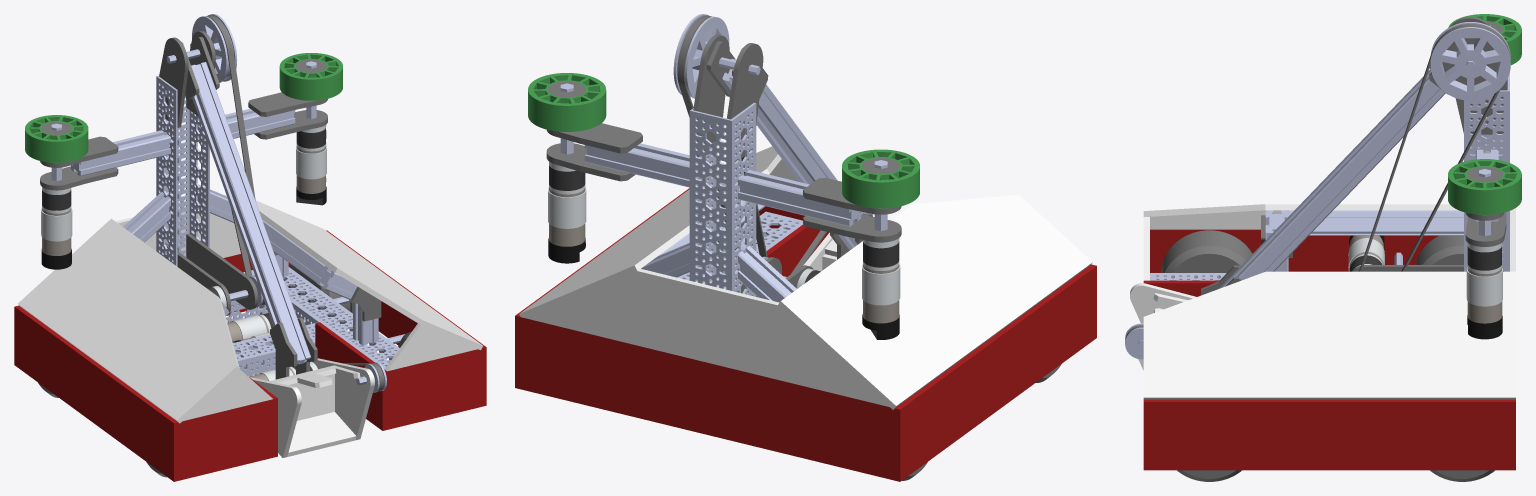
File: Bulldogs_AssemblyFBX_FIXED.fbx
3 renders of one model, left to right at view 1: azimuth 30°, elevation 25°; view 2: azimuth 150°, elevation 25°; view 3: azimuth 270°, elevation 25°, orthographic. The views are drawn at different scales.
Parts seen in each view (by area): view 1: Body70, Body22, Body26, Body94, Body73, Body19, Body90, Body71, Body37, Body31, Body33, Body48 (+24 smaller); view 2: Body70, Body22, Body27, Body94, Body19, Body31, Body37, Body26, Body33, Body60, Body83, Body85 (+14 smaller); view 3: Body19, Body70, Body26, Body61, Body72, Body22, Body31, Body14, Body94, Body83, Body51, Body73 (+12 smaller).
Part boxes in pixels (left/top/right/bottom): Body70: left=14, top=230, right=486, bottom=481; Body22: left=18, top=218, right=239, bottom=423; Body26: left=191, top=62, right=310, bottom=364; Body94: left=156, top=75, right=209, bottom=266; Body73: left=249, top=358, right=374, bottom=457; Body19: left=255, top=200, right=482, bottom=350; Body90: left=251, top=267, right=399, bottom=369; Body71: left=197, top=184, right=357, bottom=299; Body37: left=25, top=115, right=88, bottom=162; Body31: left=279, top=53, right=342, bottom=100; Body33: left=71, top=130, right=170, bottom=176; Body48: left=186, top=233, right=258, bottom=309; Body70: left=515, top=188, right=1096, bottom=481; Body22: left=778, top=194, right=1092, bottom=409; Body27: left=526, top=269, right=888, bottom=406; Body94: left=689, top=102, right=756, bottom=296; Body19: left=519, top=146, right=781, bottom=318; Body31: left=528, top=73, right=606, bottom=131; Body37: left=842, top=149, right=919, bottom=208; Body26: left=722, top=58, right=862, bottom=249; Body33: left=738, top=170, right=861, bottom=226; Body60: left=584, top=143, right=704, bottom=187; Body83: left=548, top=187, right=586, bottom=263; Body85: left=862, top=264, right=900, bottom=339; Body19: left=1143, top=271, right=1515, bottom=399; Body70: left=1143, top=229, right=1515, bottom=470; Body26: left=1219, top=69, right=1445, bottom=288; Body61: left=1430, top=22, right=1510, bottom=100; Body72: left=1265, top=210, right=1463, bottom=239; Body22: left=1143, top=204, right=1515, bottom=229; Body31: left=1448, top=159, right=1521, bottom=214; Body14: left=1161, top=230, right=1252, bottom=272; Body94: left=1464, top=72, right=1509, bottom=271; Body83: left=1466, top=267, right=1502, bottom=339; Body51: left=1359, top=24, right=1509, bottom=271; Body73: left=1130, top=283, right=1196, bottom=370.
Size of the model in its own units: 17.3 by 17.65 by 16.31.
